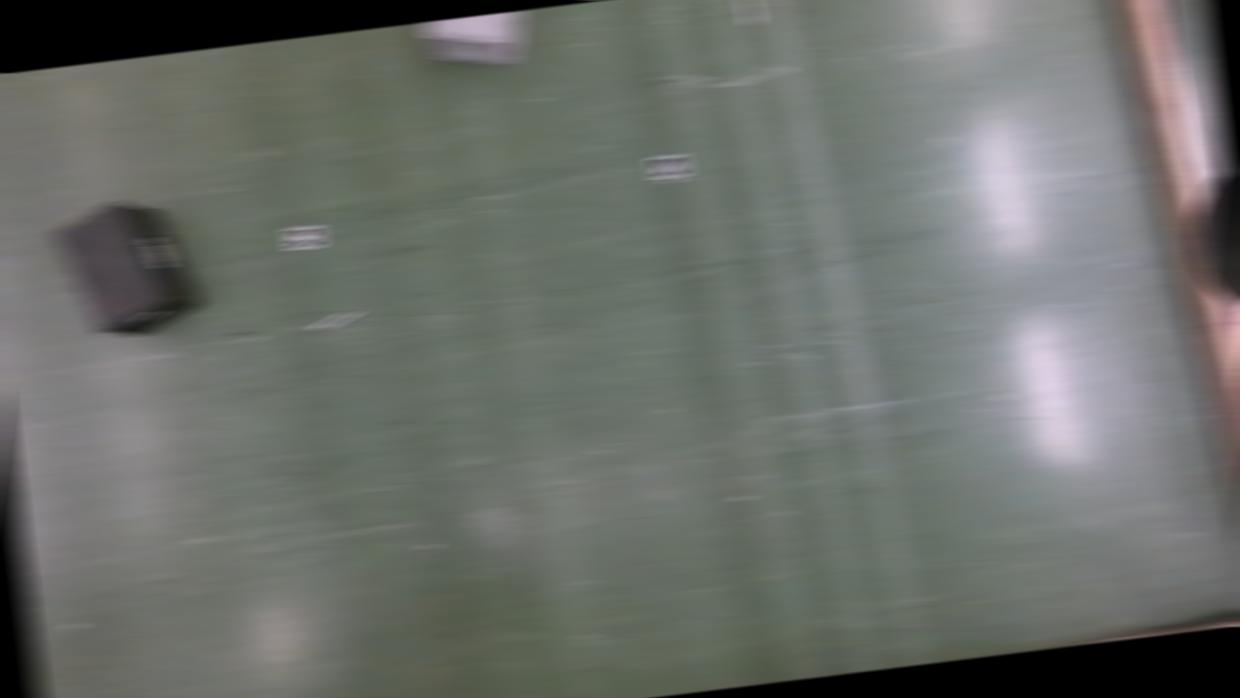probes: (313, 310, 360, 331), (736, 0, 762, 27)
rako: (50, 193, 204, 345), (419, 9, 535, 75)
